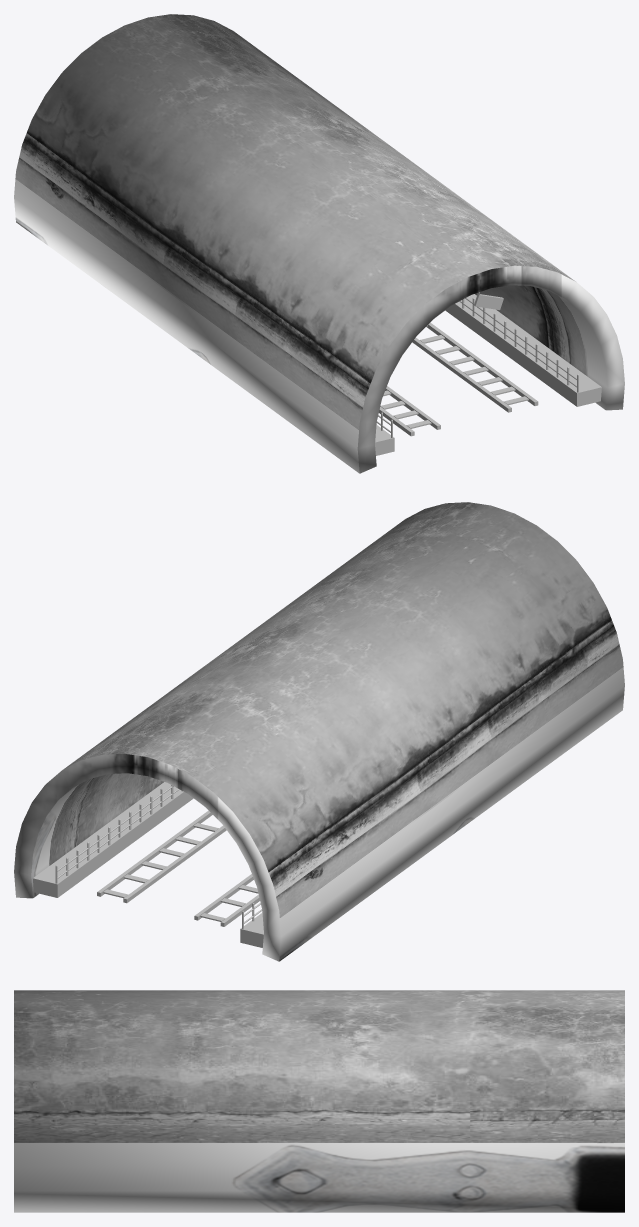
Rendered from Galleria(1).fbx.
The picture shows the model from 3 angles, top to bottom: view 1: azimuth 30°, elevation 25°; view 2: azimuth 150°, elevation 25°; view 3: azimuth 270°, elevation 25°; orthographic projection. The views are drawn at different scales.
Visible parts, largest first — view 1: Tunnel, Step_2, Railway, Ringhiere; view 2: Tunnel, Step_2, Railway, Ringhiere; view 3: Tunnel.
Boxes of the visible parts, box(x1,y1,x2,y2) form: Tunnel: box(14, 14, 624, 473); Step_2: box(375, 294, 601, 455); Railway: box(379, 322, 538, 436); Ringhiere: box(376, 297, 578, 437); Tunnel: box(14, 502, 624, 961); Step_2: box(33, 782, 263, 947); Railway: box(97, 810, 259, 926); Ringhiere: box(55, 785, 262, 928); Tunnel: box(14, 990, 624, 1212).
Size of what is drawn, in the model's own units: 426 by 263 by 949.
